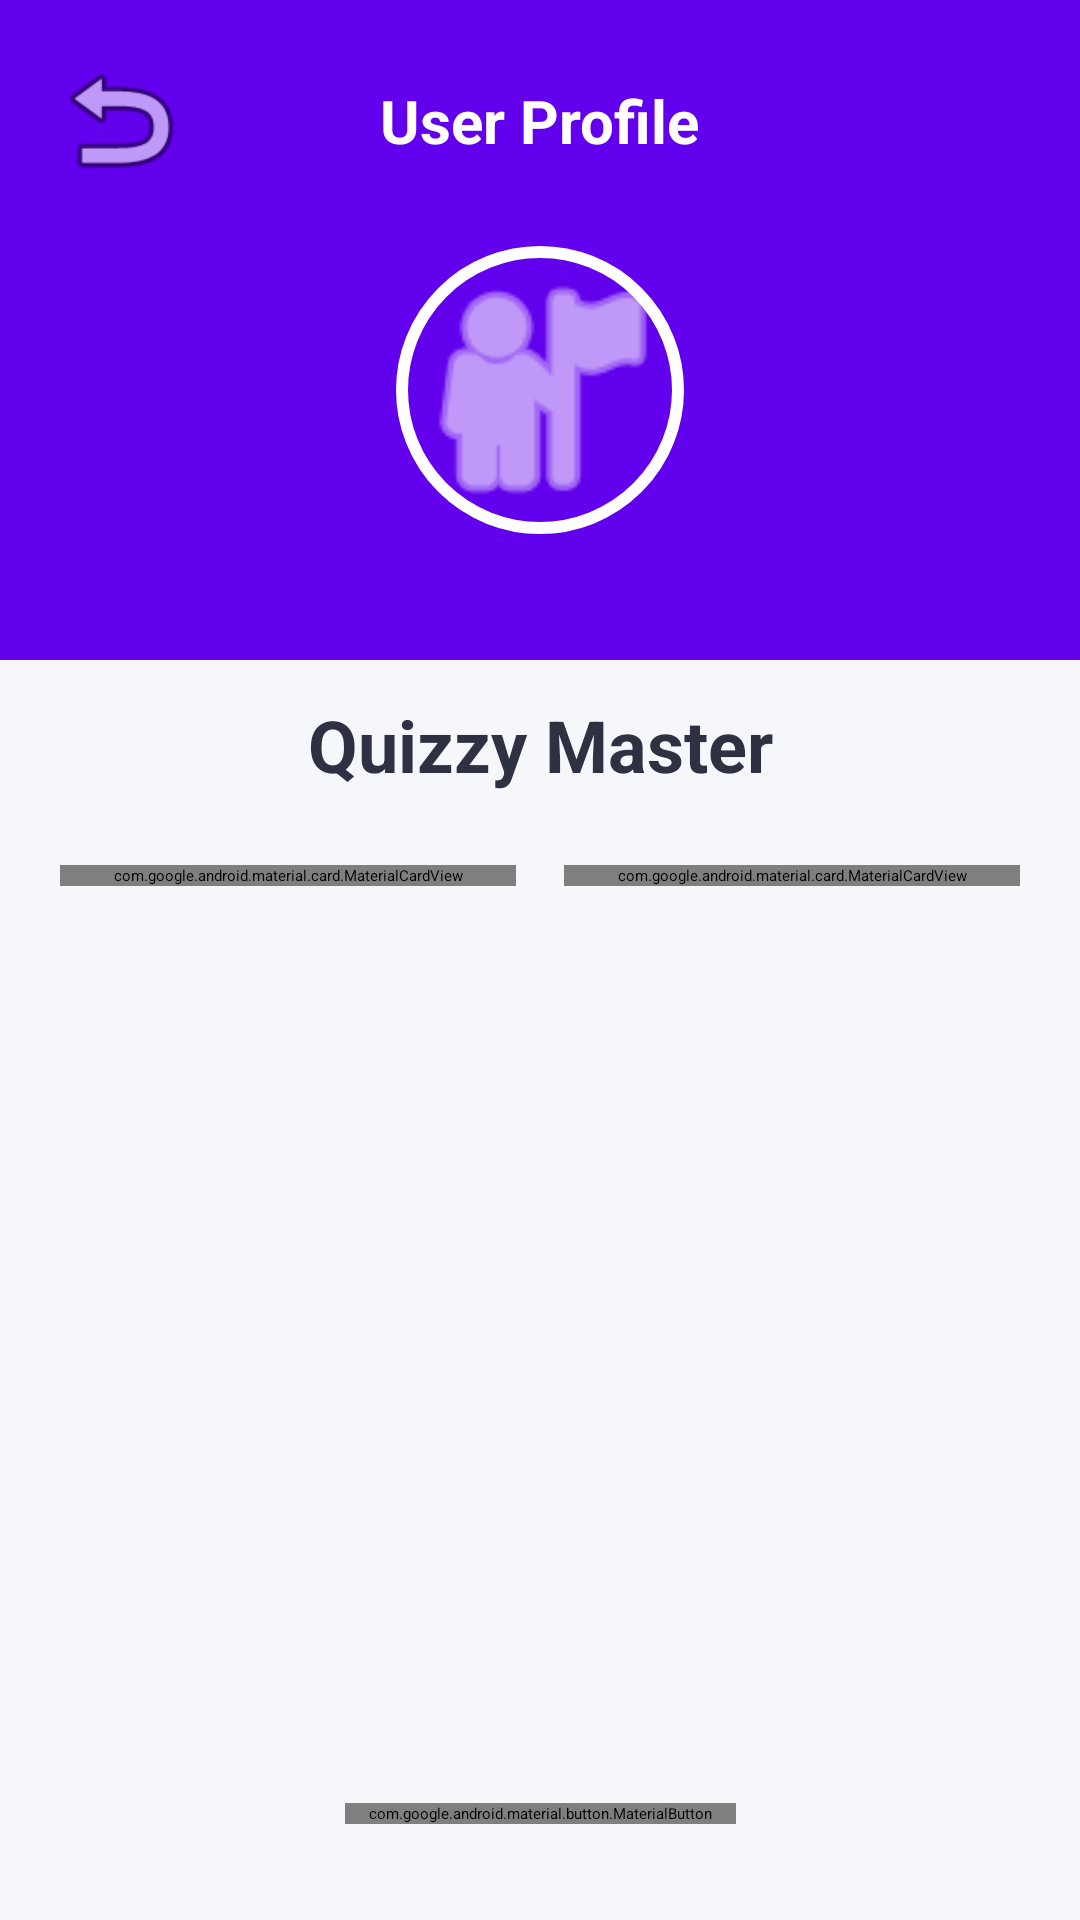

Icon click points for this 1080 x 1920 phone screenshot, format (x,y):
revert: (122,121)
